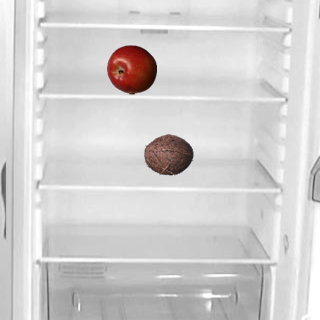Apple Braeburn: (106, 44, 156, 94)
Cocos: (143, 129, 193, 179)
